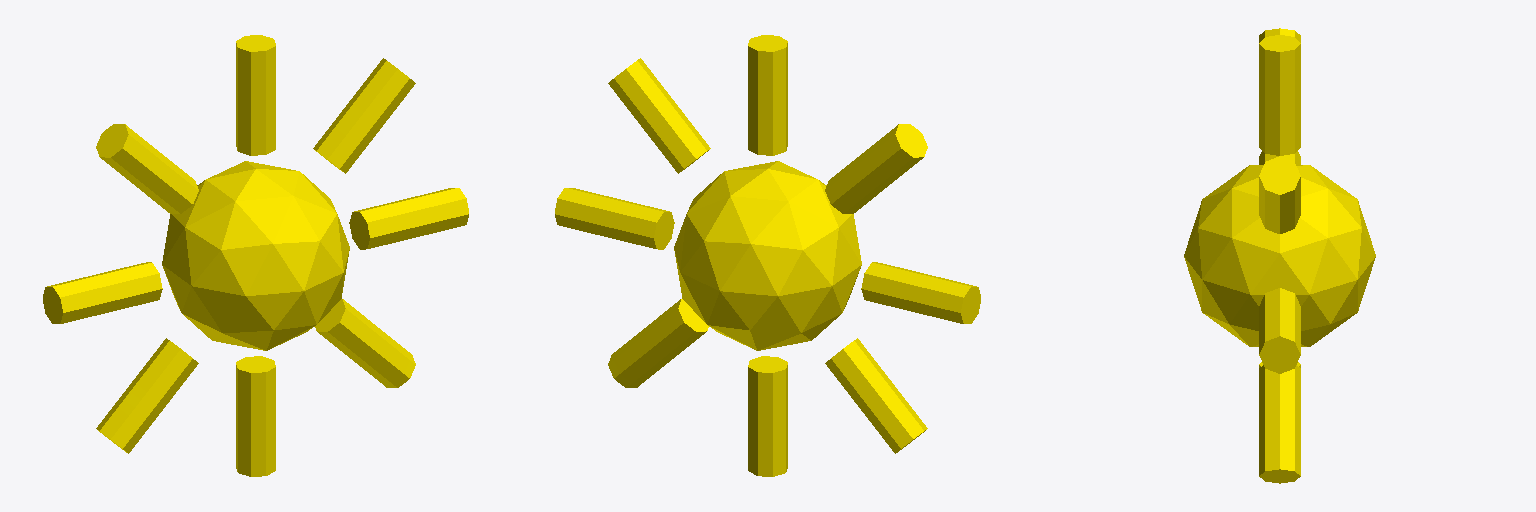
The picture shows the model from 3 angles: view 1: azimuth 30°, elevation 25°; view 2: azimuth 150°, elevation 25°; view 3: azimuth 270°, elevation 25°; orthographic projection.
Parts seen in each view (by area): view 1: Light.000; view 2: Light.000; view 3: Light.000.
Boxes of the visible parts, <box> form: Light.000: <box>43,35,468,476</box>; Light.000: <box>555,35,980,476</box>; Light.000: <box>1184,28,1375,483</box>.
Bounding box in the file's own units: 0.6327 × 0.6327 × 0.2595.
Materials: 1 (1 with a texture image).